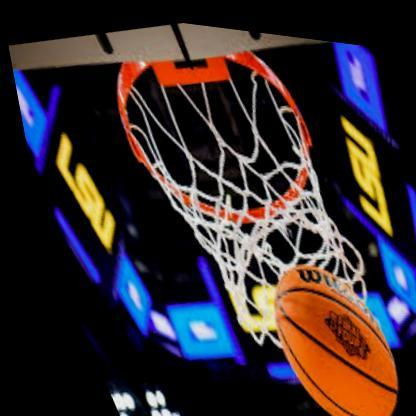basketball: (238, 240, 410, 416)
rim: (87, 16, 363, 297)
